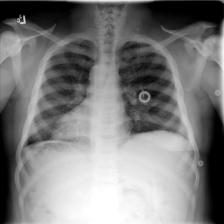normal: (19, 34, 192, 156)
